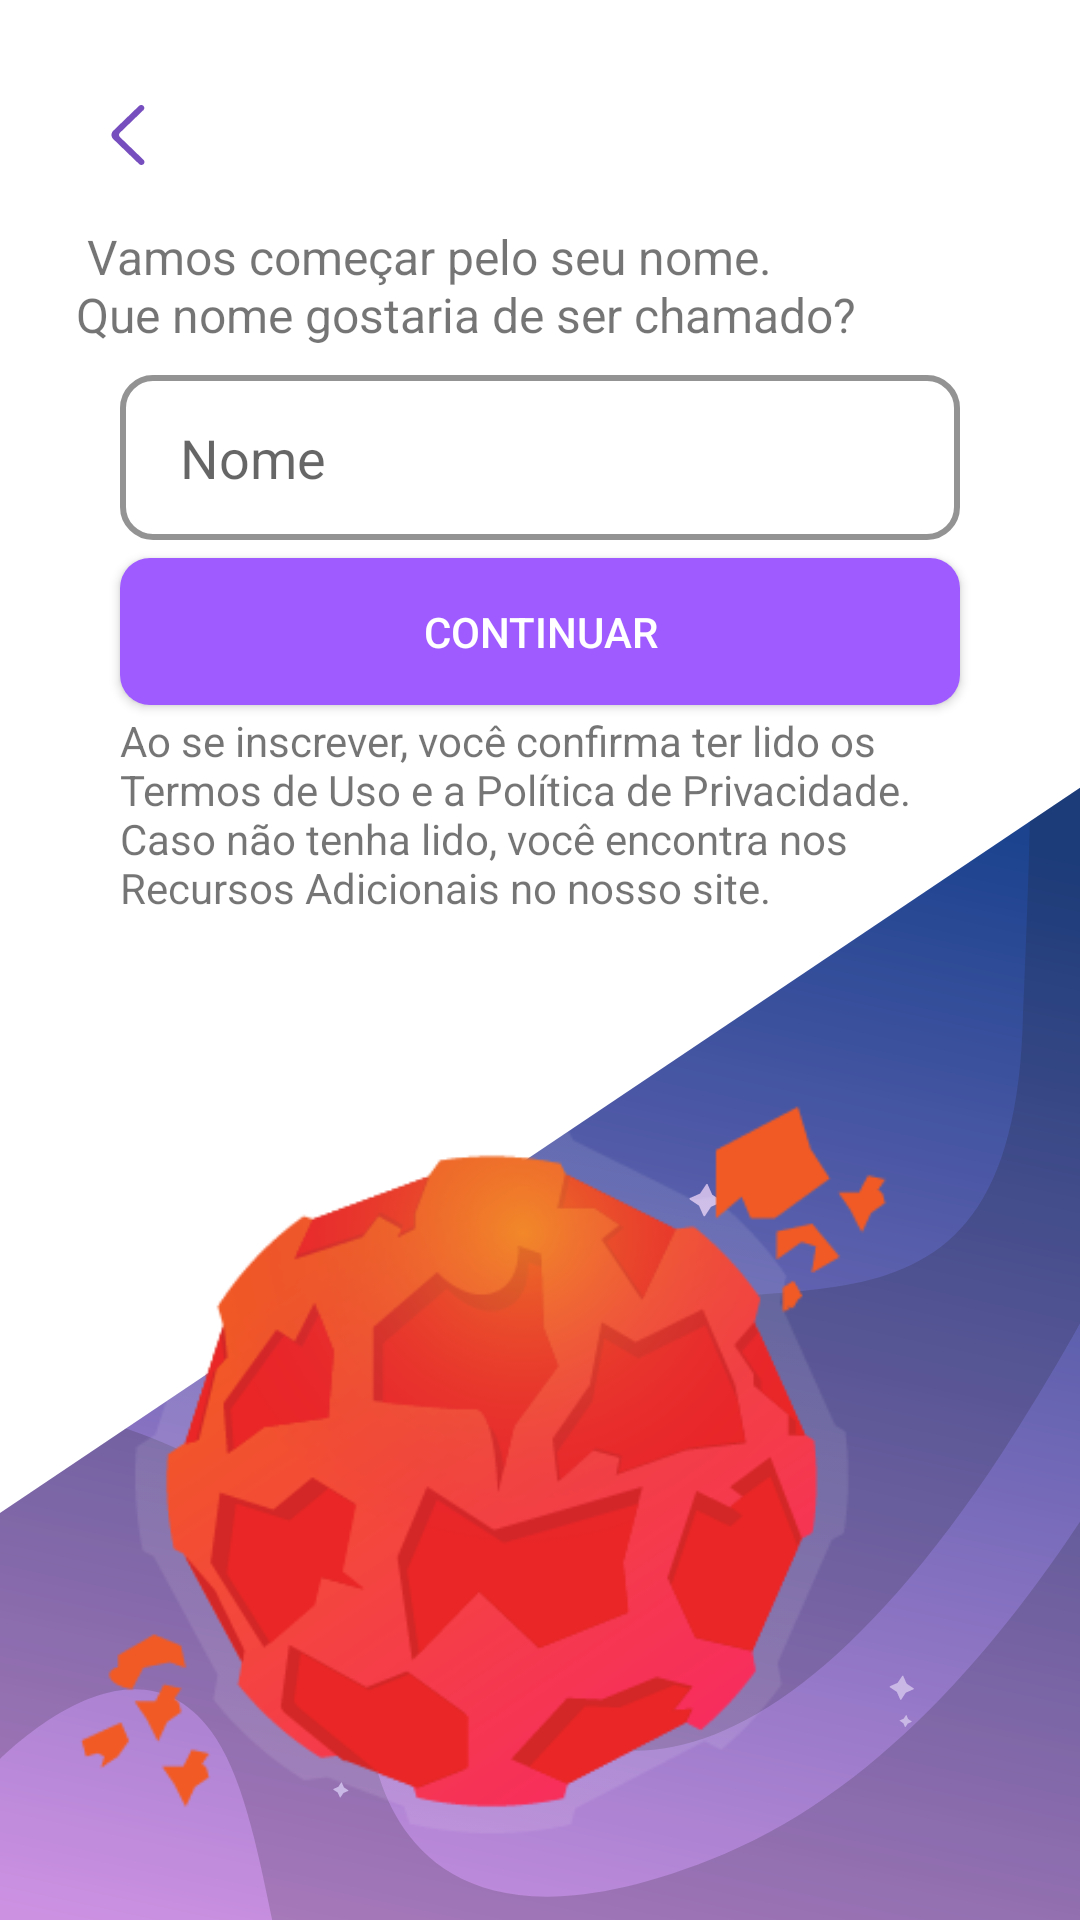

Screen size 1080*1920. Icon name, then its box in pixels as box=[x1, y1, x2, y2]:
voltar: box=[111, 105, 145, 165]
